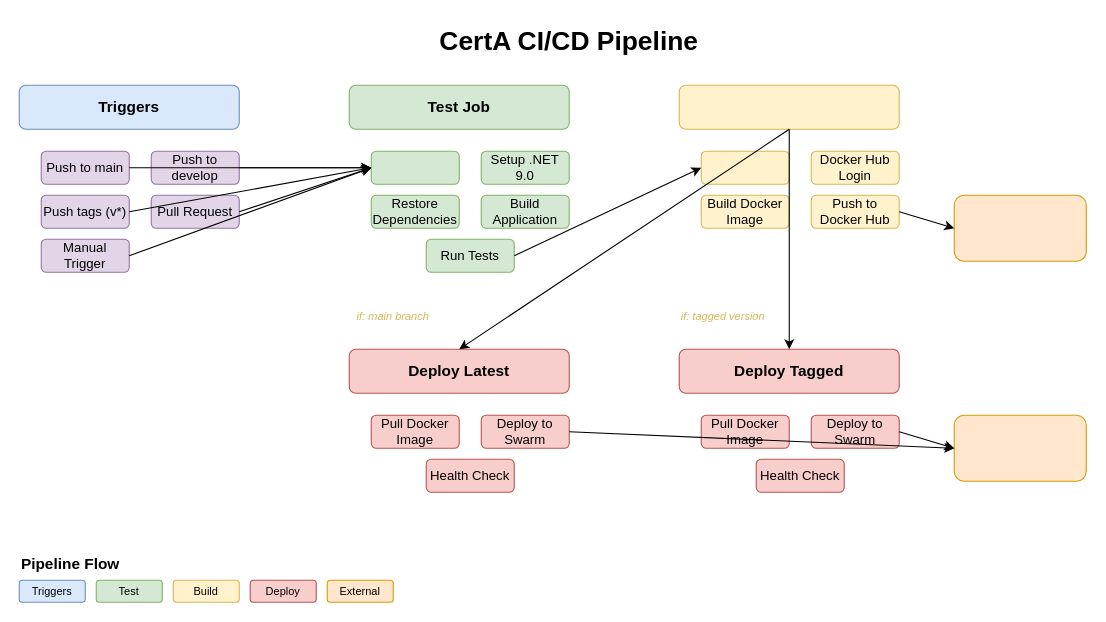
The diagram is 1106 pixels wide and 622 high, and some of its shapes have lost their labels. The shapes that lost their labels are listed below. From the top down, each one's centre as x and y in pixels, then its label:
At [788,106]: "Build Job".
At [414,167]: "Checkout Repository".
At [744,167]: "Set Image Tag".
At [1019,227]: "Docker Hub judyandiealvarez/certa".
At [1019,447]: "Docker Swarm Production Environment".
